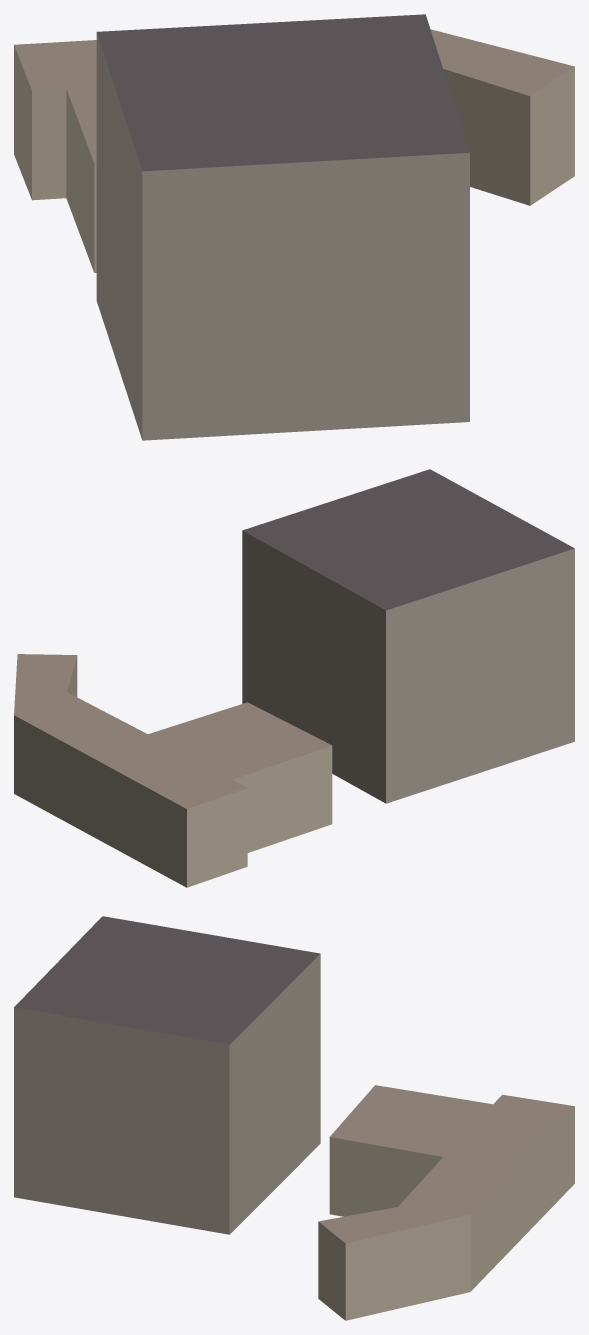
3 views of the same model, one above another, from view 1: azimuth 30°, elevation 25°; view 2: azimuth 150°, elevation 25°; view 3: azimuth 270°, elevation 25° (orthographic). The views are drawn at different scales.
Visible parts, largest first — view 1: tuile; view 2: tuile; view 3: tuile.
Part boxes in pixels (box(x1,y1,x2,y2)): tuile: box(14, 14, 574, 440); tuile: box(14, 469, 574, 887); tuile: box(14, 916, 574, 1320).
Size of the model in its own units: 21.7 by 9.54 by 24.7.
